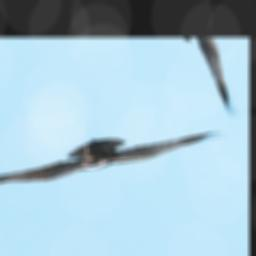Crow: (0, 48, 233, 256)
